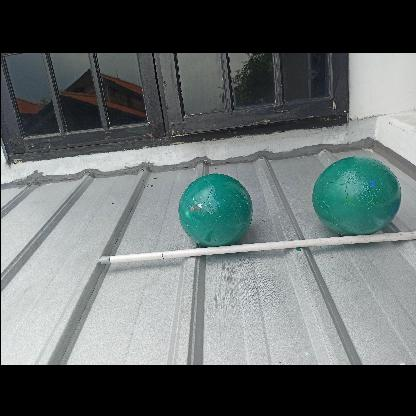green_ball: (314, 152, 398, 238), (176, 170, 250, 244)
